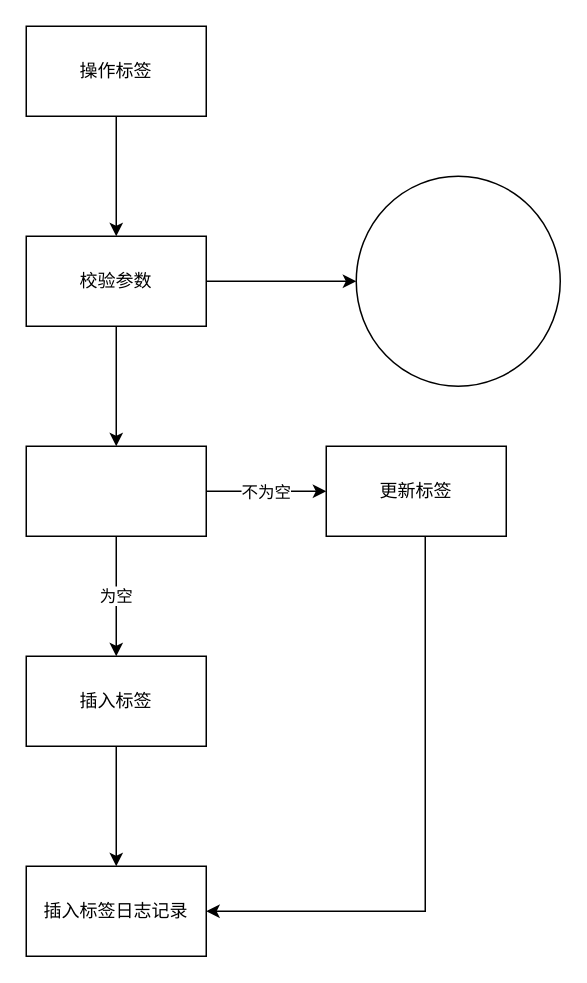
Image size: 587x983. Some labels were removed from this diagram. The centre of each missing label's shape, as x and y in pixels:
"1.操作用户 2.标签状态 3.数量 4.功能代码 5.事务代码 6.来源单号 7.来源单据类型 8.标签号" goes at point 457,280.
"查询标签表" goes at point 115,490.
